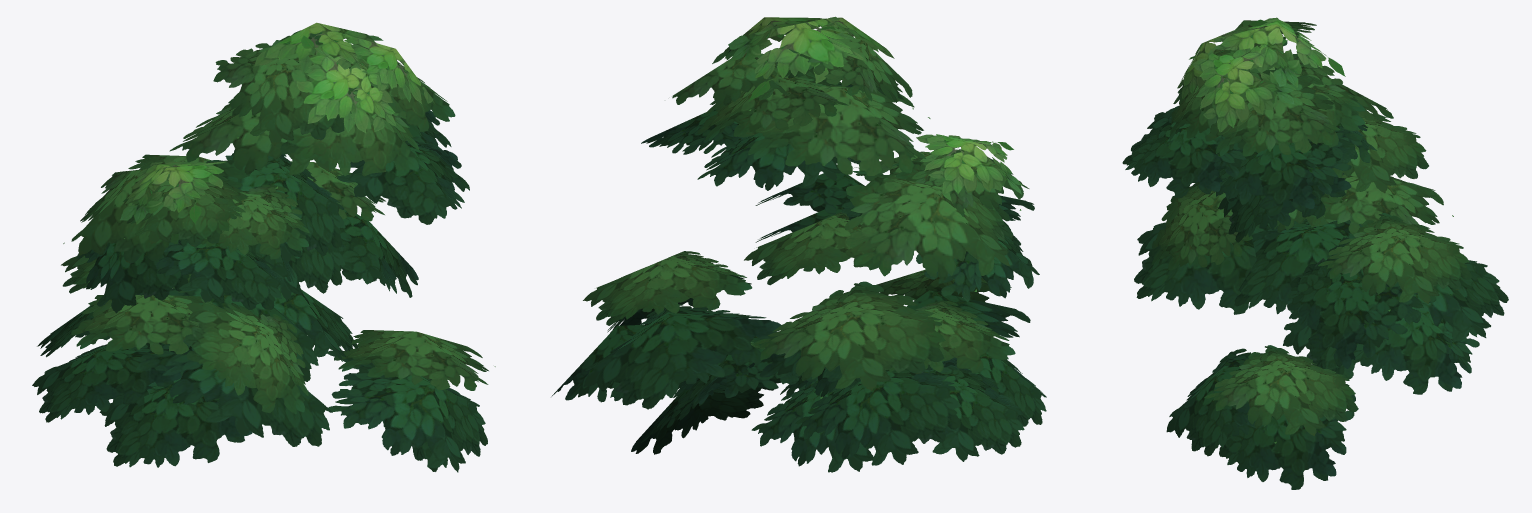
The model's file is scene_shenmisenlin_tree01.FBX.
3 renders of one model, left to right at view 1: azimuth 30°, elevation 25°; view 2: azimuth 150°, elevation 25°; view 3: azimuth 270°, elevation 25°, orthographic. The views are drawn at different scales.
Visible parts, largest first — view 1: scene_shenmisenlin_tree01; view 2: scene_shenmisenlin_tree01; view 3: scene_shenmisenlin_tree01.
Boxes of the visible parts, x1=… form: scene_shenmisenlin_tree01: x1=32, y1=22, x2=495, y2=472; scene_shenmisenlin_tree01: x1=551, y1=16, x2=1046, y2=472; scene_shenmisenlin_tree01: x1=1122, y1=17, x2=1508, y2=489.
Size of the model in its own units: 826 by 827 by 735.
